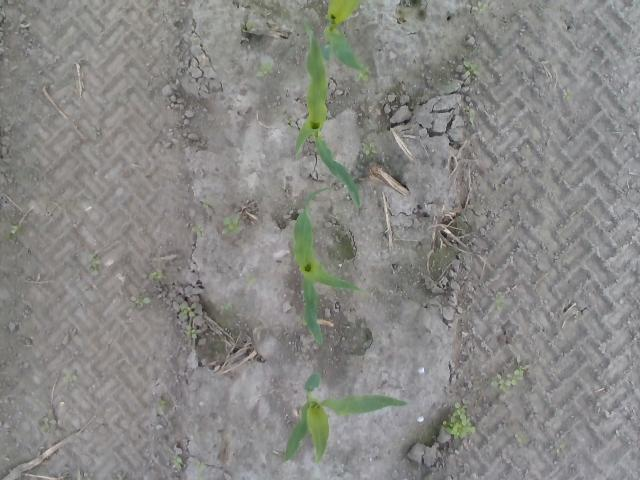Maize: (293, 18, 365, 207), (292, 184, 366, 346), (284, 371, 408, 459), (324, 0, 364, 72)
Weeds: (440, 400, 478, 438), (493, 365, 526, 394), (178, 300, 200, 340), (220, 214, 242, 236), (255, 60, 274, 79), (495, 292, 512, 311), (130, 291, 149, 308), (38, 416, 57, 432), (358, 142, 376, 158), (87, 252, 99, 272), (146, 270, 164, 282), (462, 105, 474, 123), (464, 60, 479, 74), (474, 0, 488, 14), (192, 224, 205, 236), (8, 224, 20, 237), (355, 71, 369, 82), (222, 303, 232, 311)
